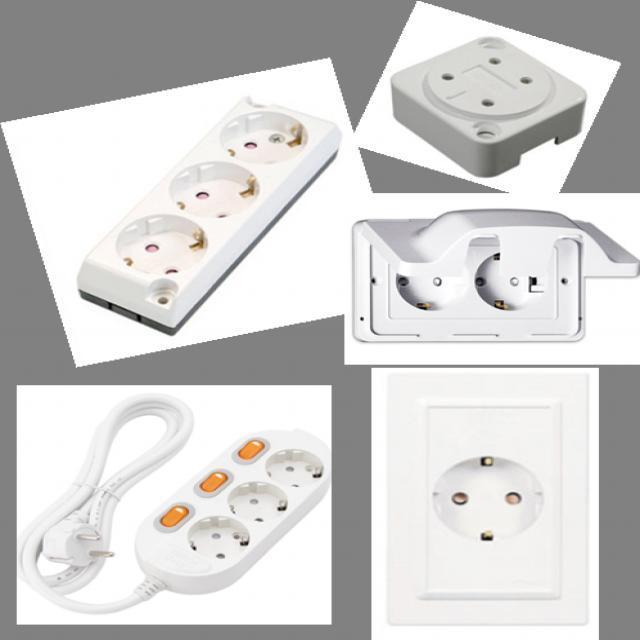typeb: (54, 53, 351, 365), (365, 361, 602, 635), (342, 198, 621, 364)
